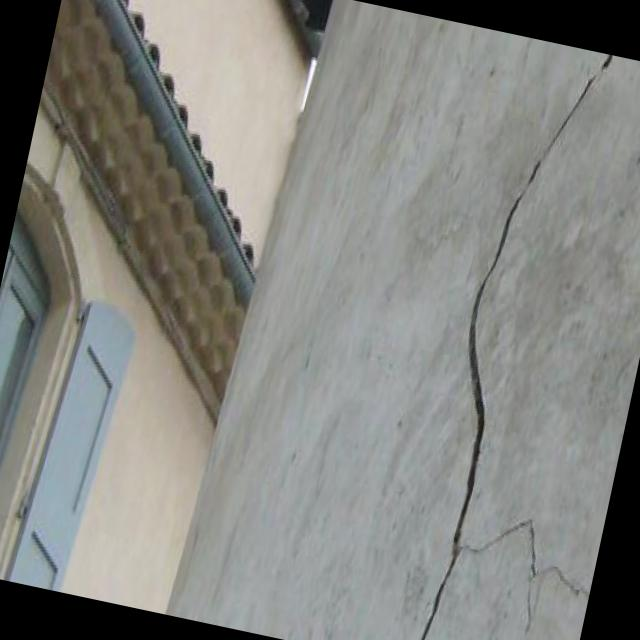crack: (419, 54, 613, 640), (523, 563, 588, 631)
